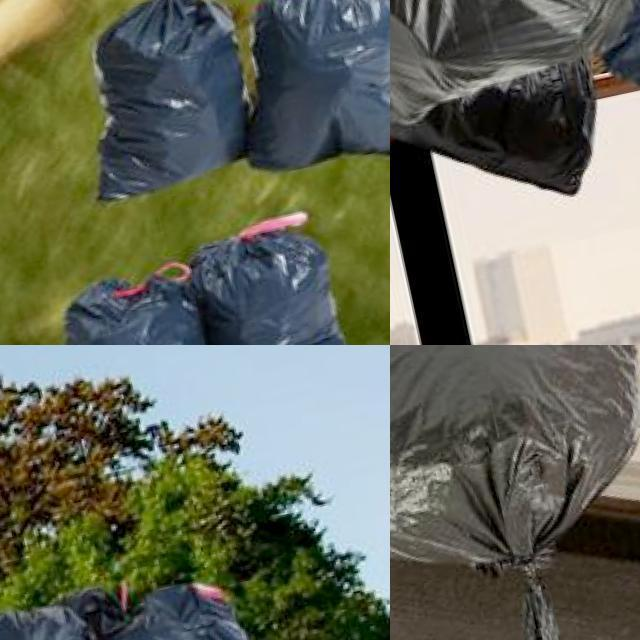waste: (390, 345, 640, 640), (396, 61, 618, 228), (66, 0, 261, 186), (224, 0, 390, 169), (390, 0, 640, 108), (171, 211, 367, 345), (0, 256, 245, 345), (91, 572, 266, 640), (0, 587, 116, 640)
